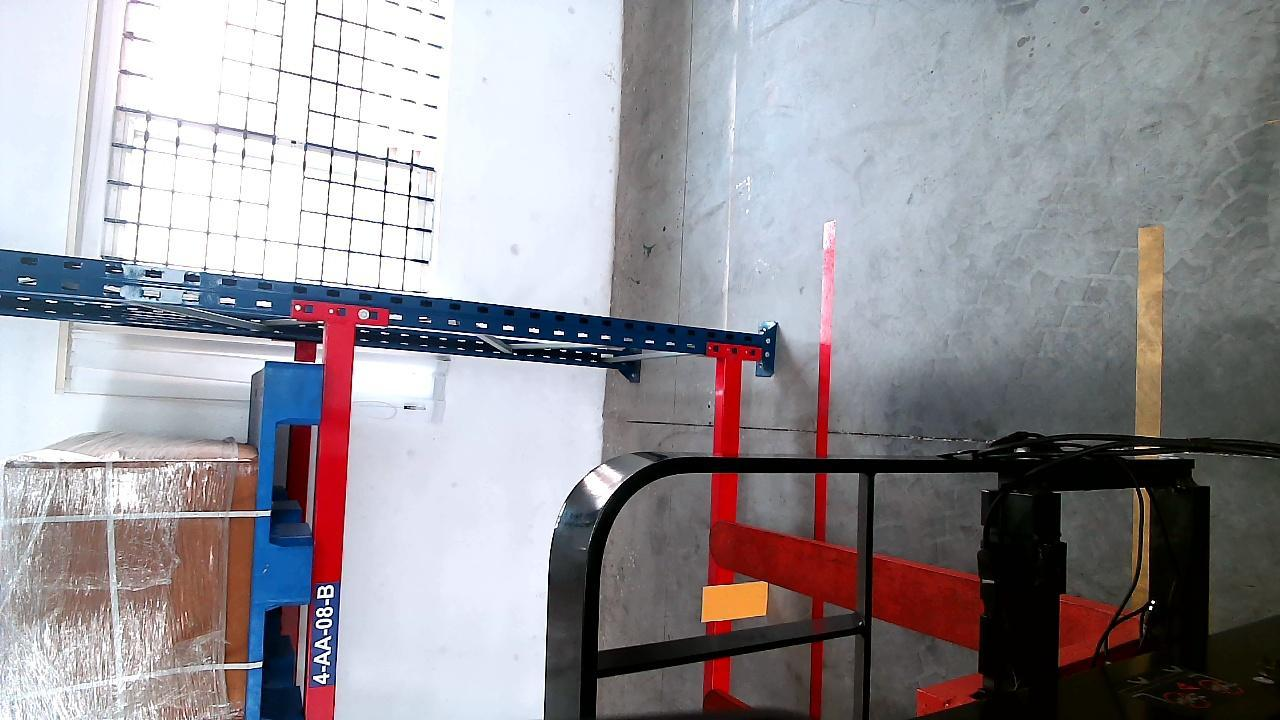red_line: (815, 227, 836, 478)
yellow_line: (1137, 223, 1163, 441)
